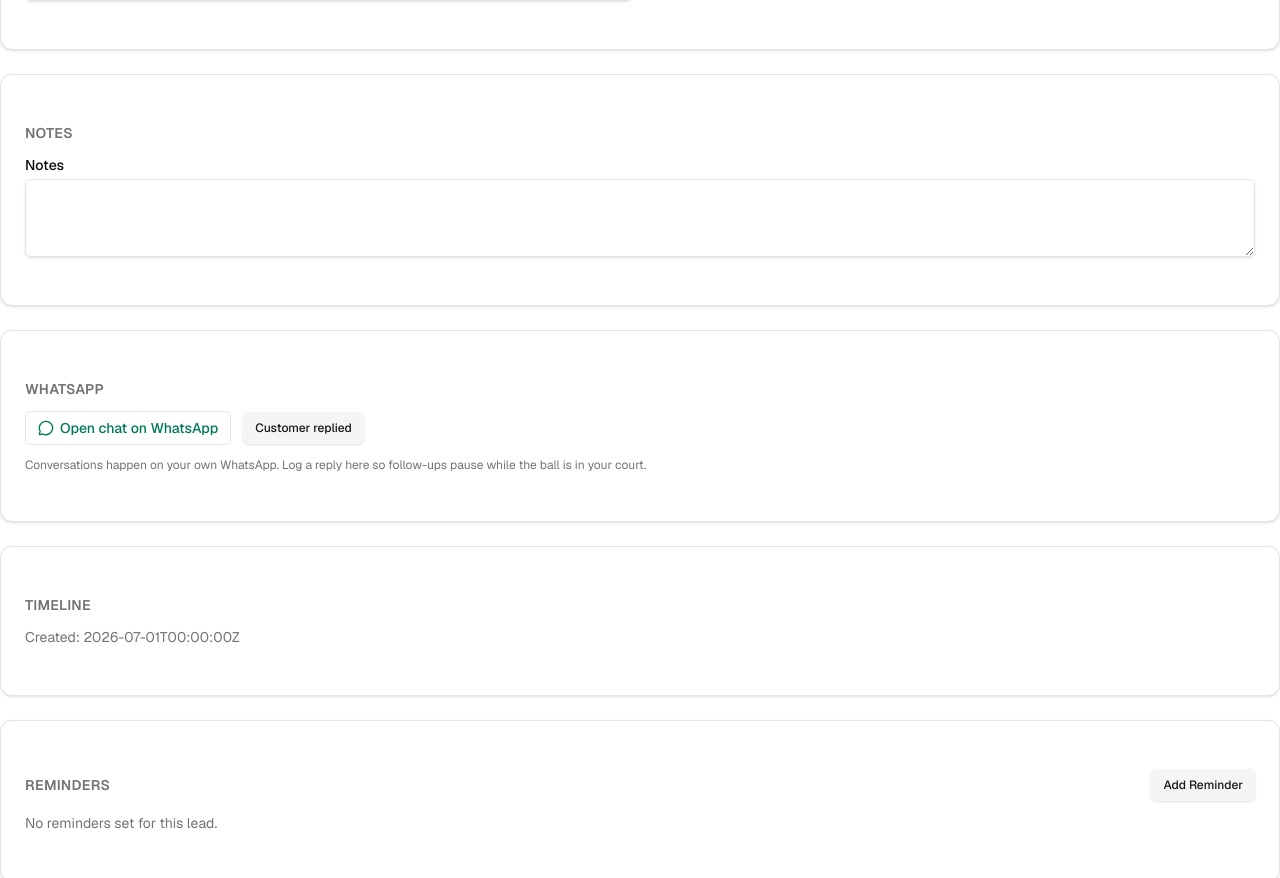
Lead page WhatsApp shortcuts section › shows the wa.me chip and logs a reply when Twilio is not active
(page scrolled)
What coordinates should you click on to do the following:
click the button "Customer replied"
I would click on:
 (304, 428)
Its box is x1=243 y1=412 x2=364 y2=444.
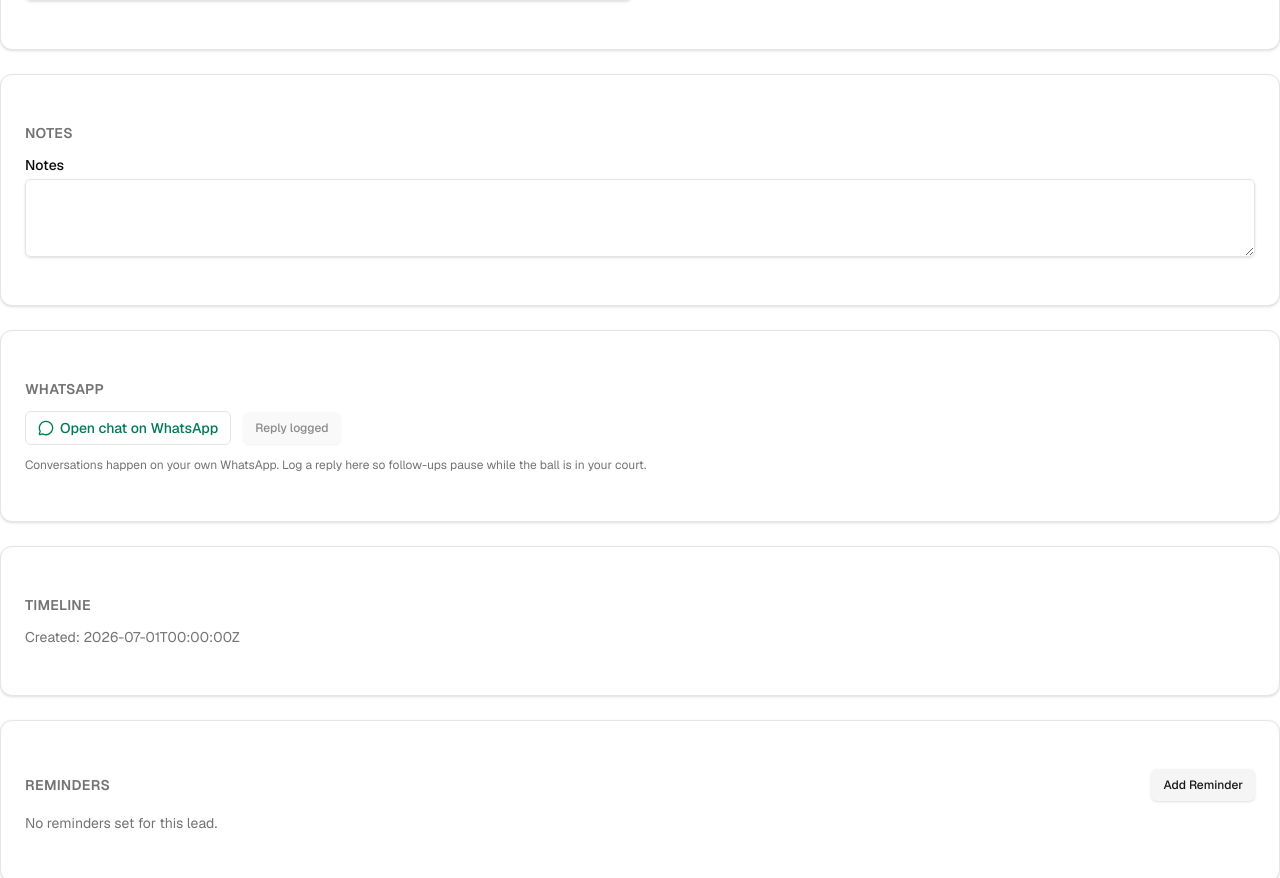
Expected: the button "Reply logged" is shown, x1=243 y1=412 x2=340 y2=444
